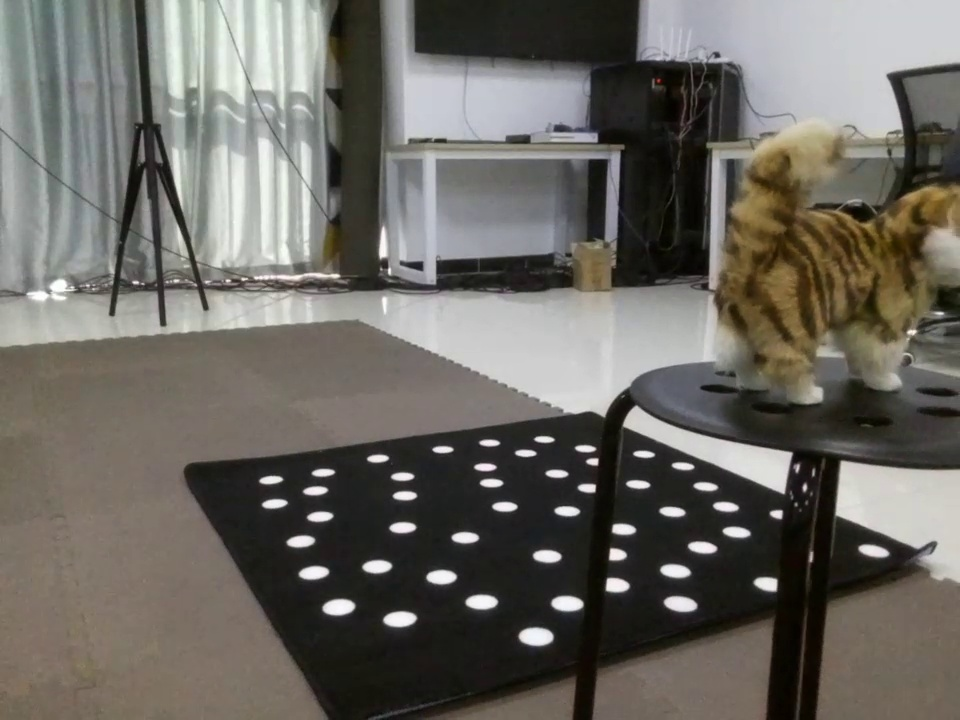cat: (689, 117, 960, 405)
